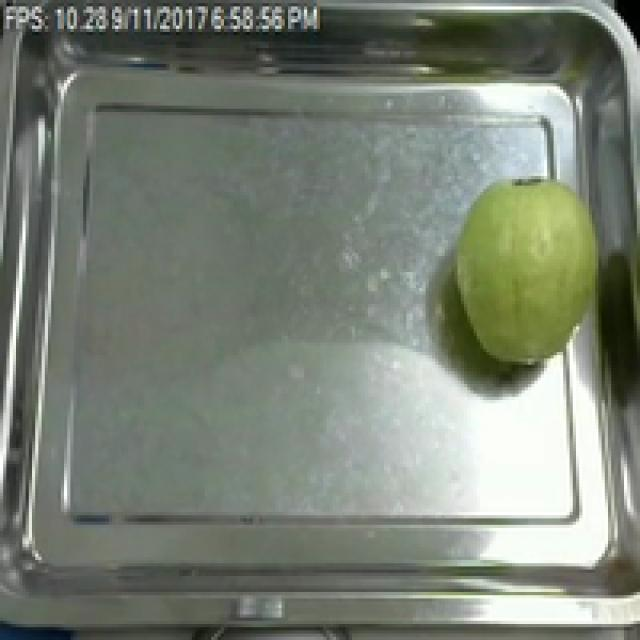Fruit: (442, 166, 614, 372)
